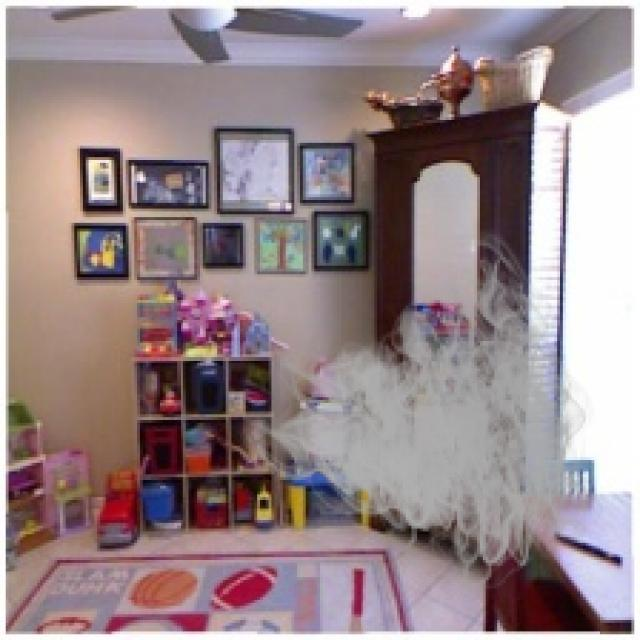smoke: (243, 226, 611, 600)
